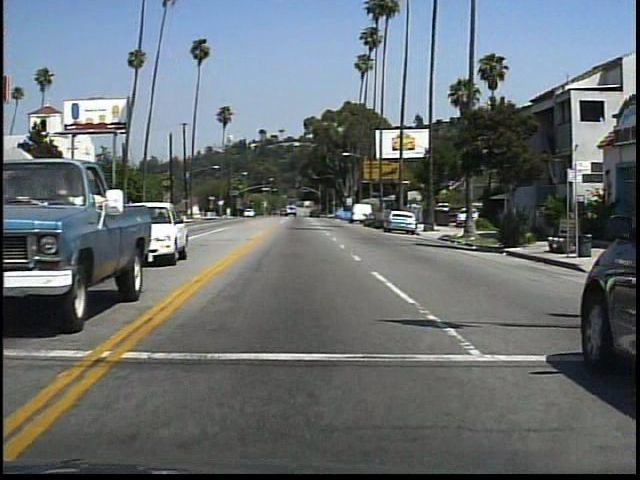person: (510, 198, 534, 250)
